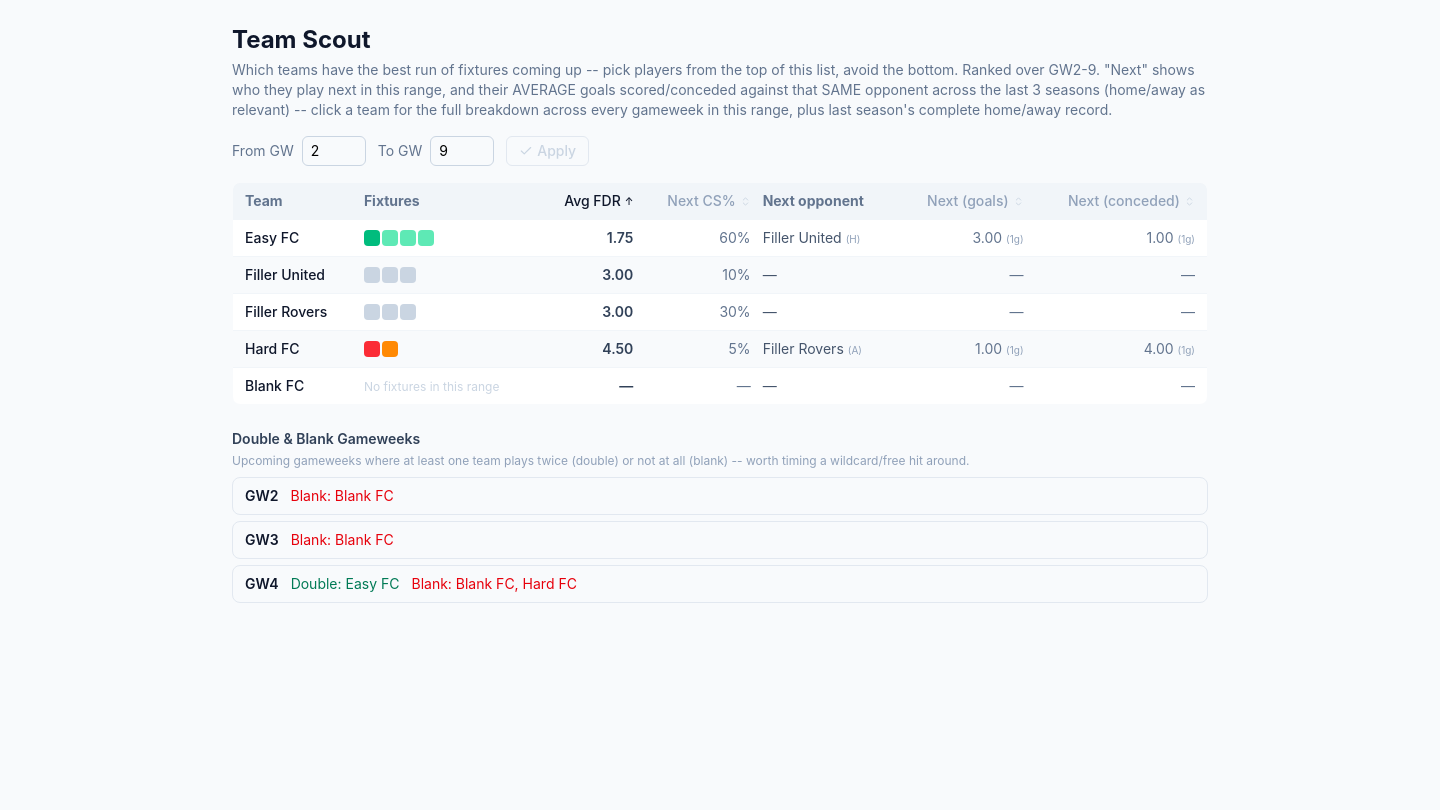
Test case: FixtureSwing › closes the team detail modal
Click the text "Easy FC".
click(298, 238)  # box [232, 220, 364, 256]
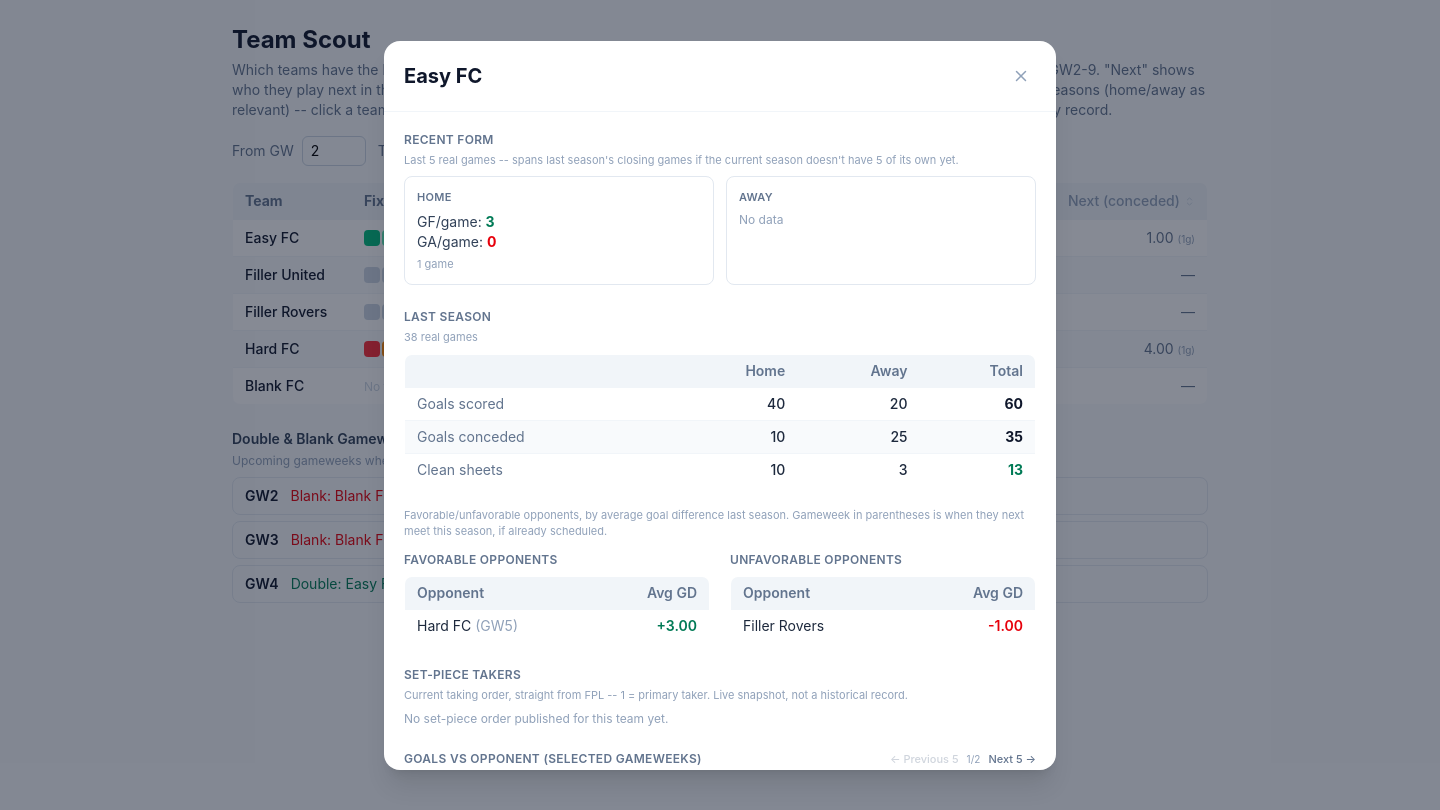
Expected: the dialog is shown
Click the button named "Close".
click(1021, 76)  # box [1006, 60, 1036, 90]
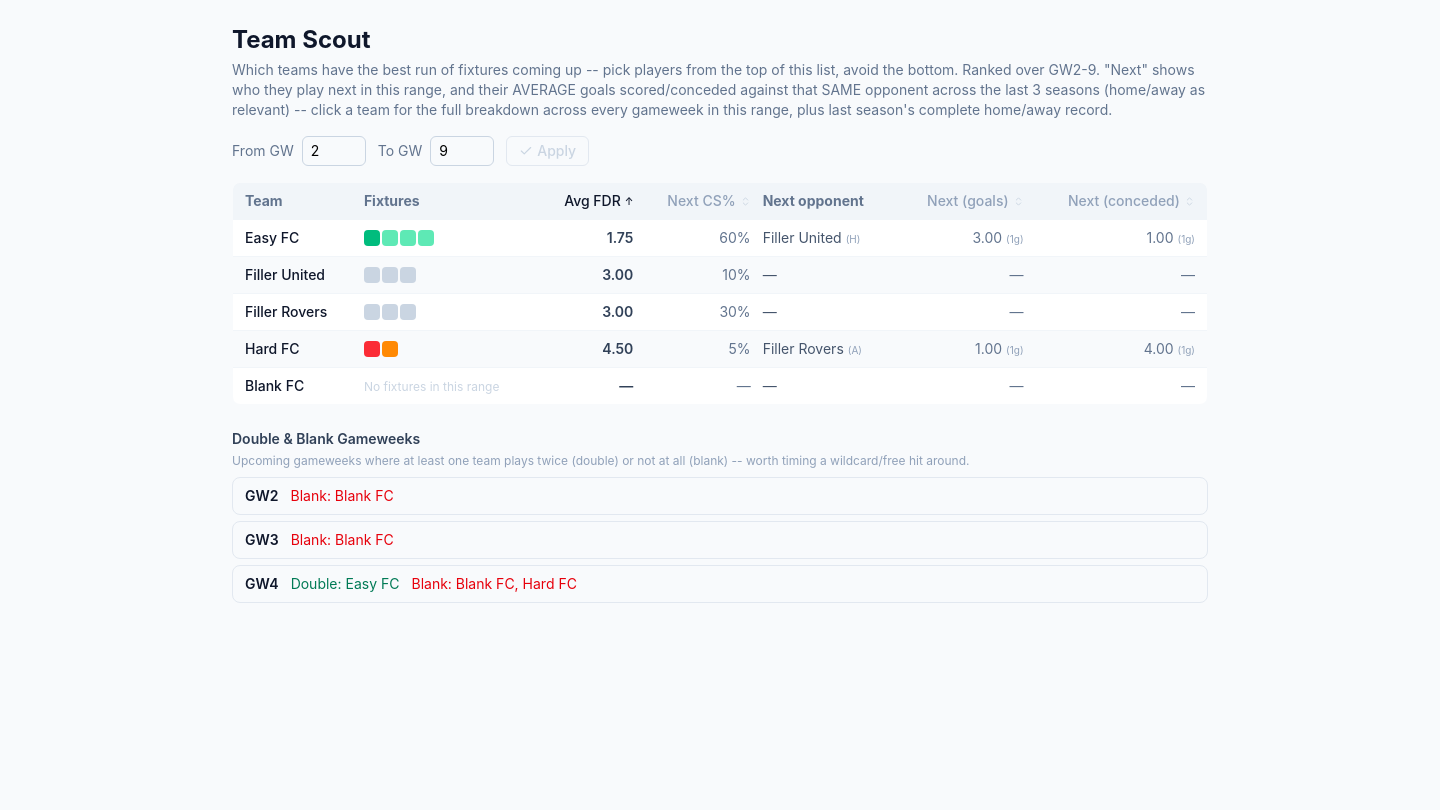
Expected: the dialog is gone
